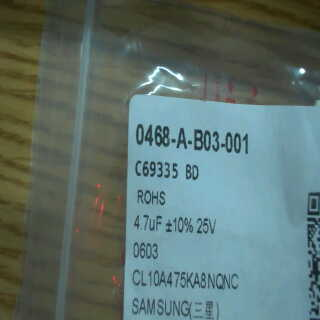4.7uF: (131, 210, 164, 238)
